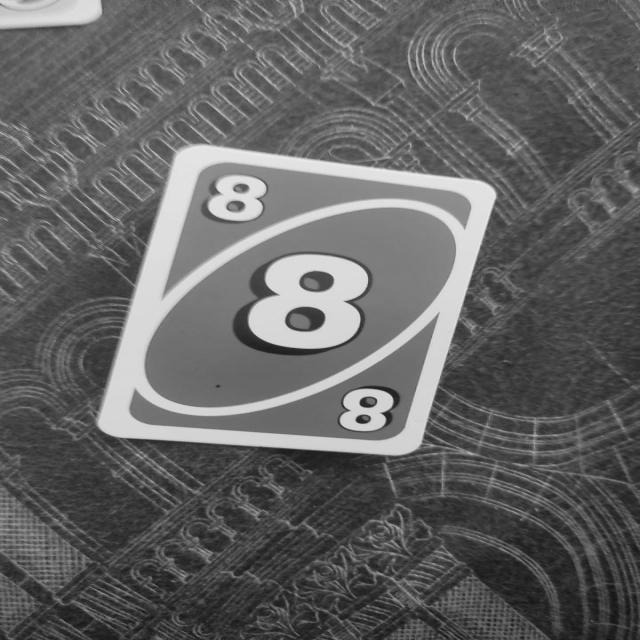card_8: (94, 143, 497, 456)
